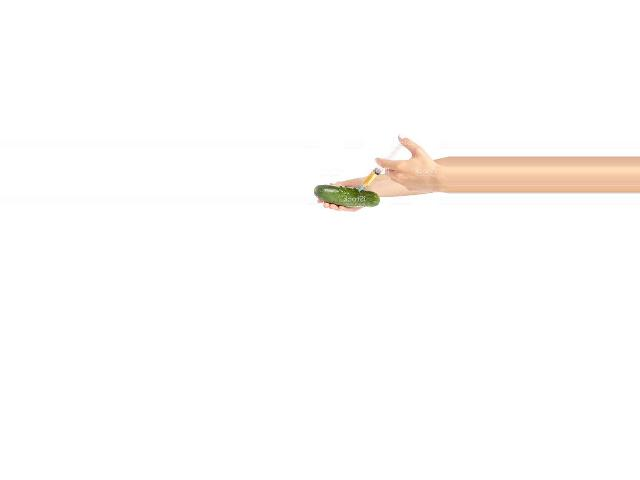cucumber: (312, 185, 379, 206)
